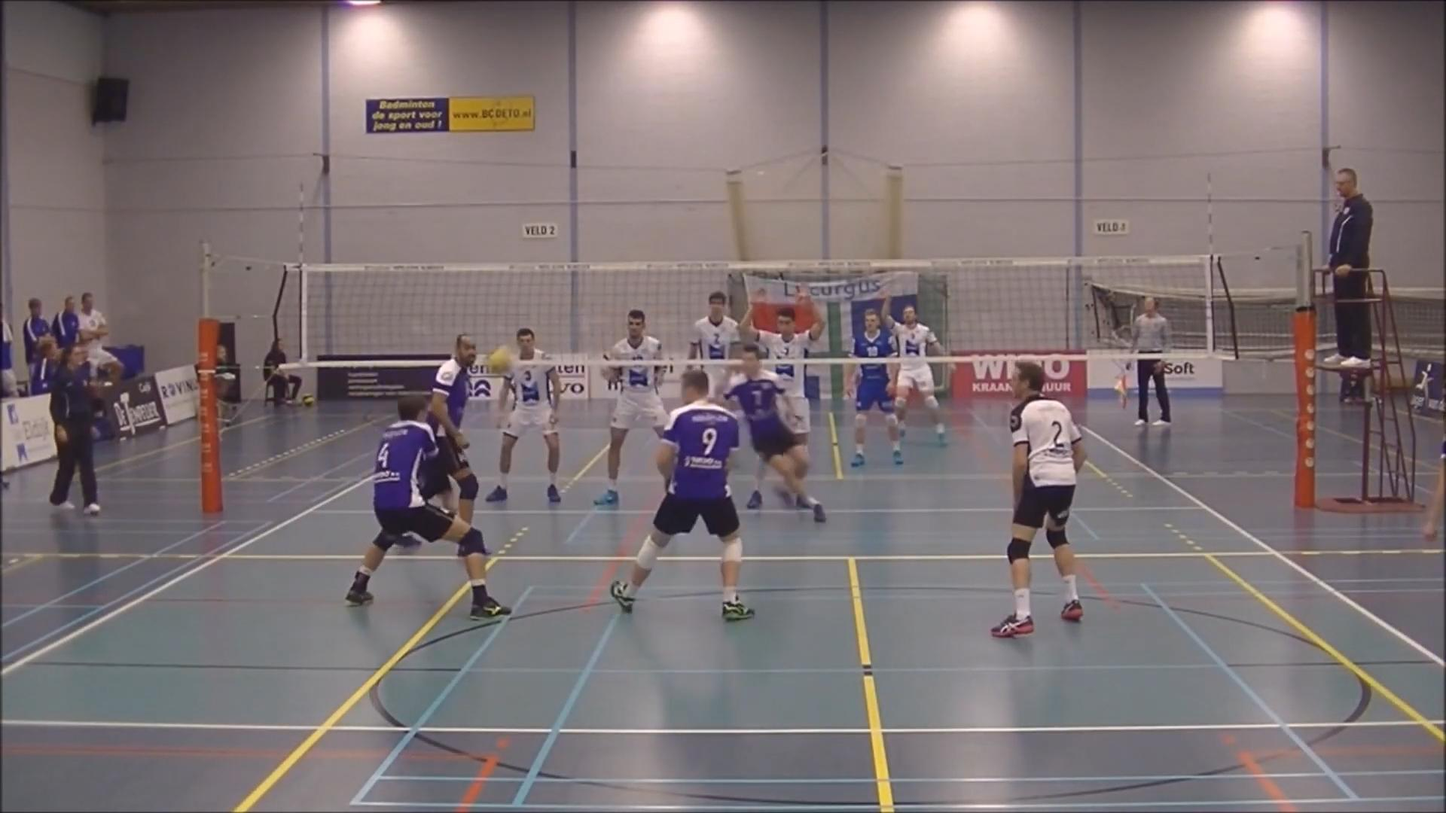Player: (610, 370, 754, 620), (991, 362, 1085, 637), (724, 343, 825, 522), (740, 287, 825, 477), (594, 309, 668, 504), (486, 327, 560, 502), (424, 335, 479, 523), (882, 297, 947, 445), (846, 309, 901, 467), (689, 291, 740, 361), (1422, 439, 1445, 539)
Receive: (333, 393, 514, 625)
ball: (483, 344, 520, 375)
